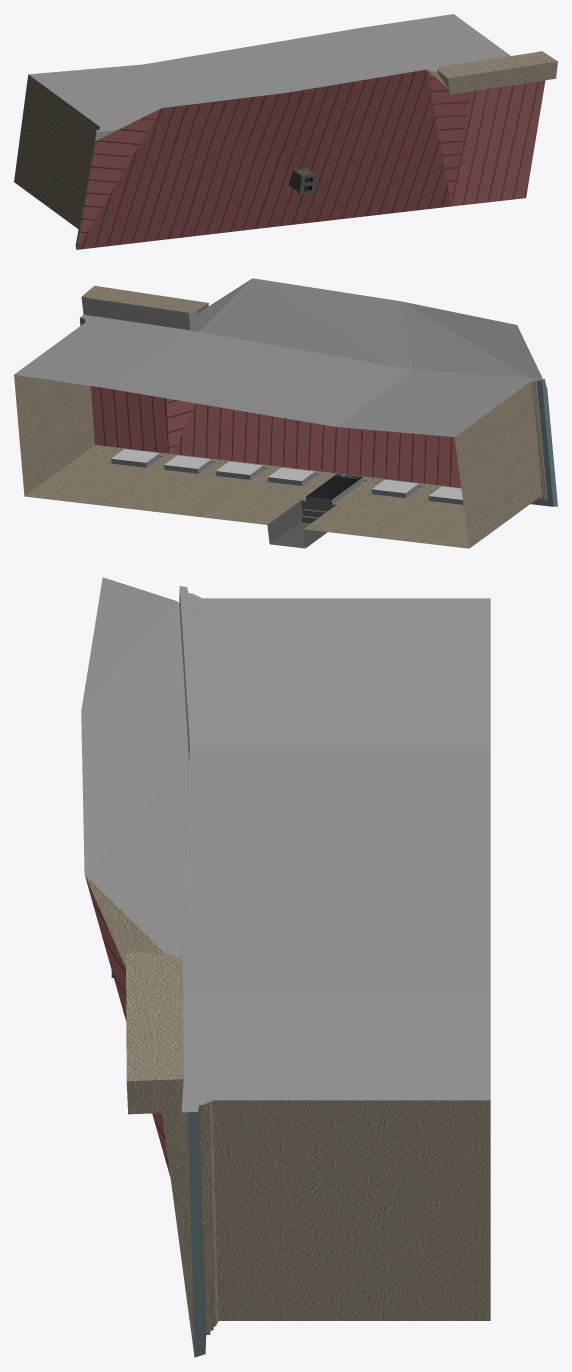
Rendered from Lai_50_2.obj.
3 views of the same model, one above another, from view 1: azimuth 30°, elevation 25°; view 2: azimuth 150°, elevation 25°; view 3: azimuth 270°, elevation 25° (orthographic). The views are drawn at different scales.
Parts seen in each view (by area): view 1: Lai_50_2; view 2: Lai_50_2; view 3: Lai_50_2.
Boxes of the visible parts, x1,y1,x2,y2 form: Lai_50_2: [14, 14, 557, 249]; Lai_50_2: [14, 278, 557, 548]; Lai_50_2: [81, 577, 490, 1357].
Bounding box in the file's own units: 18.63 × 7.72 × 7.11.
